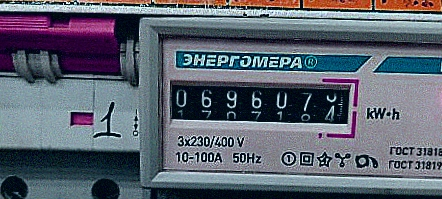0: (273, 88, 289, 110), (173, 87, 187, 108)
4: (322, 102, 336, 124)
6: (198, 87, 212, 108), (248, 89, 262, 109)
7: (298, 91, 313, 112)
9: (223, 88, 236, 109)
screen: (155, 69, 363, 136)
